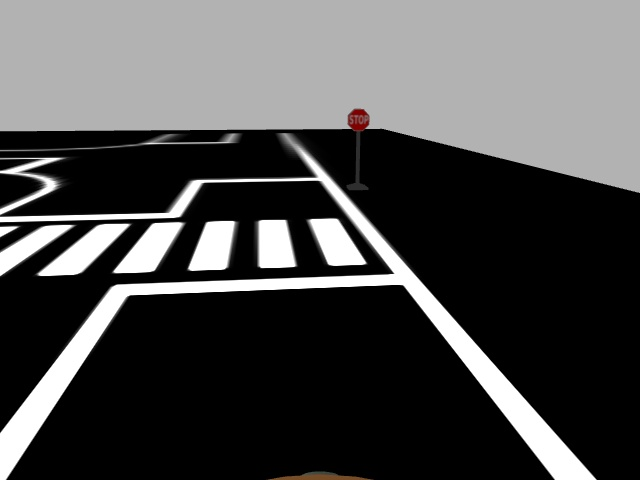stop: (344, 107, 373, 133)
